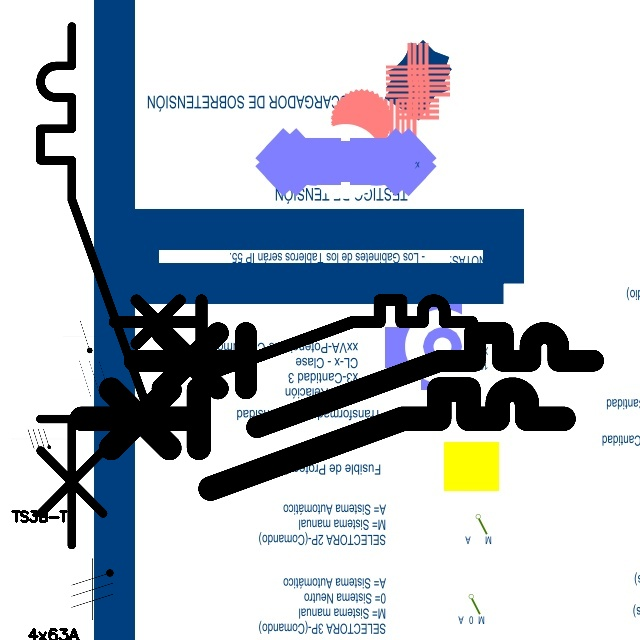interruptor_termomagnetico: (27, 13, 160, 558), (69, 377, 576, 501), (122, 321, 604, 439), (105, 291, 480, 383)
